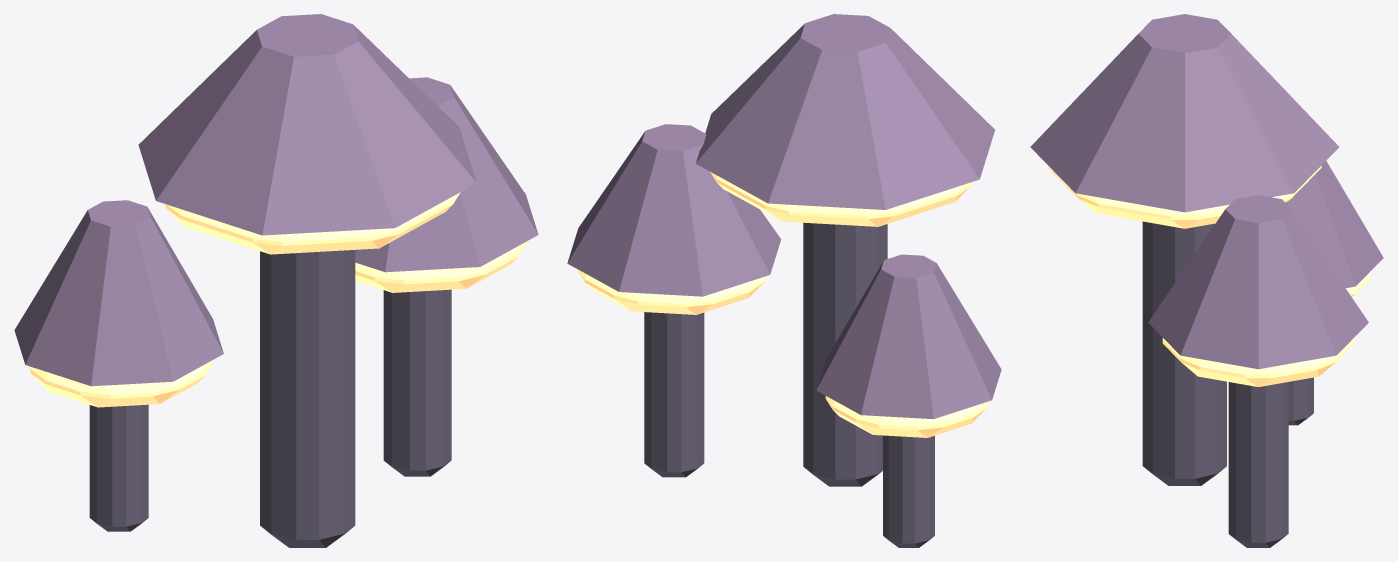
File: ember_cinder_fungus.glb
3 views of the same model, side by side, from view 1: azimuth 30°, elevation 25°; view 2: azimuth 150°, elevation 25°; view 3: azimuth 270°, elevation 25° (orthographic). The views are drawn at different scales.
Parts seen in each view (by area): view 1: ember_cinder_fungus.001; view 2: ember_cinder_fungus.001; view 3: ember_cinder_fungus.001.
Boxes of the visible parts, left/top/right/bottom form: ember_cinder_fungus.001: left=14, top=14, right=538, bottom=547; ember_cinder_fungus.001: left=567, top=14, right=1001, bottom=547; ember_cinder_fungus.001: left=1030, top=14, right=1383, bottom=547.
Bounding box in the file's own units: 1.34 × 1.32 × 0.96.
